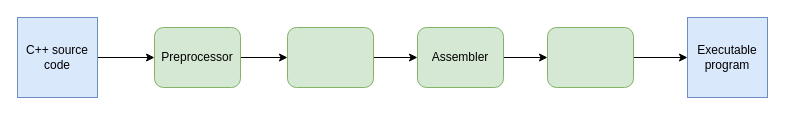
Image size: 785x115. Some labels were removed from this diagram. The shapes that lost their labels are listed below. From the top down, each one's centre as x and y in pixels, then its label:
the point at 330,57: Compiler
the point at 590,57: Linker
